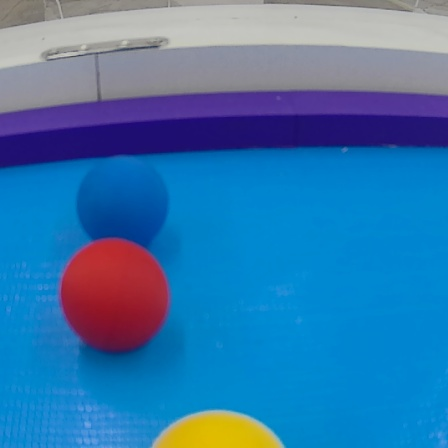blue: (74, 157, 169, 256)
blue_aim: (2, 86, 448, 447)
red: (58, 238, 179, 358)
